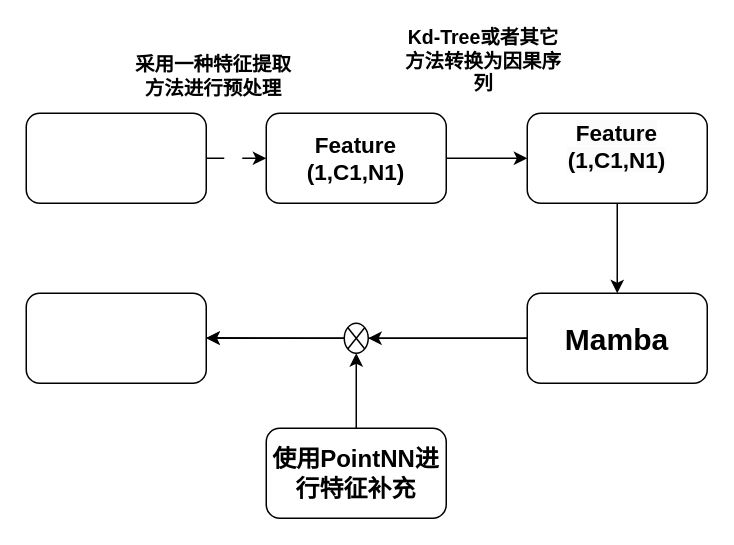
This 734x545 diagram has some shape labels left out. Here are the shapes that lost their labels. From the top down, the centre of each, then its label:
At point 115,157: "point cloud".
At point 115,337: "detection head".
